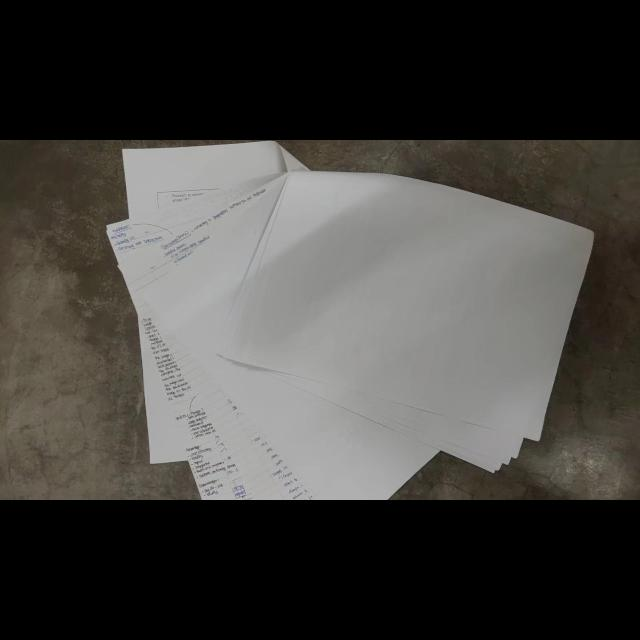papel: (103, 142, 592, 500)
